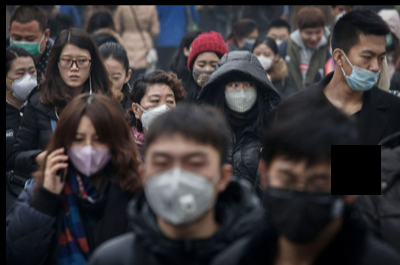mask_weared_incorrect: (339, 45, 384, 92)
with_mask: (260, 164, 343, 245), (141, 147, 219, 228), (66, 128, 111, 177), (137, 90, 176, 133), (5, 63, 37, 101), (223, 80, 255, 114), (8, 28, 44, 58), (191, 57, 219, 87), (253, 49, 271, 72)
without_mask: (55, 52, 88, 86), (297, 26, 323, 48)
